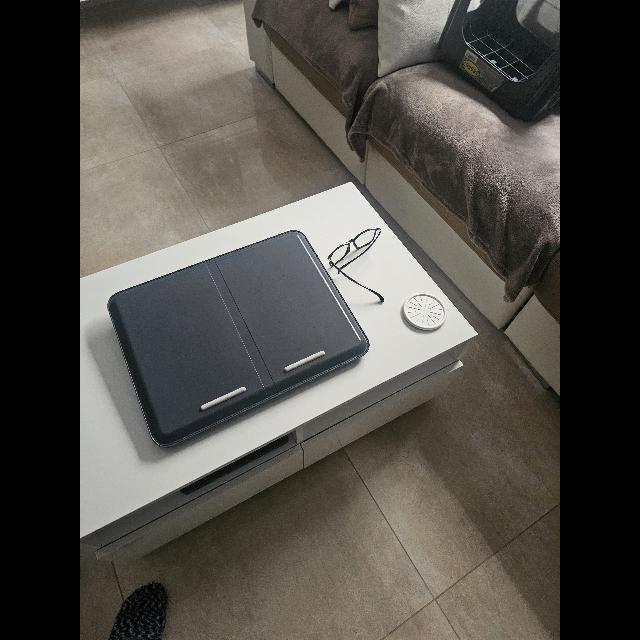glasses: (328, 228, 384, 302)
